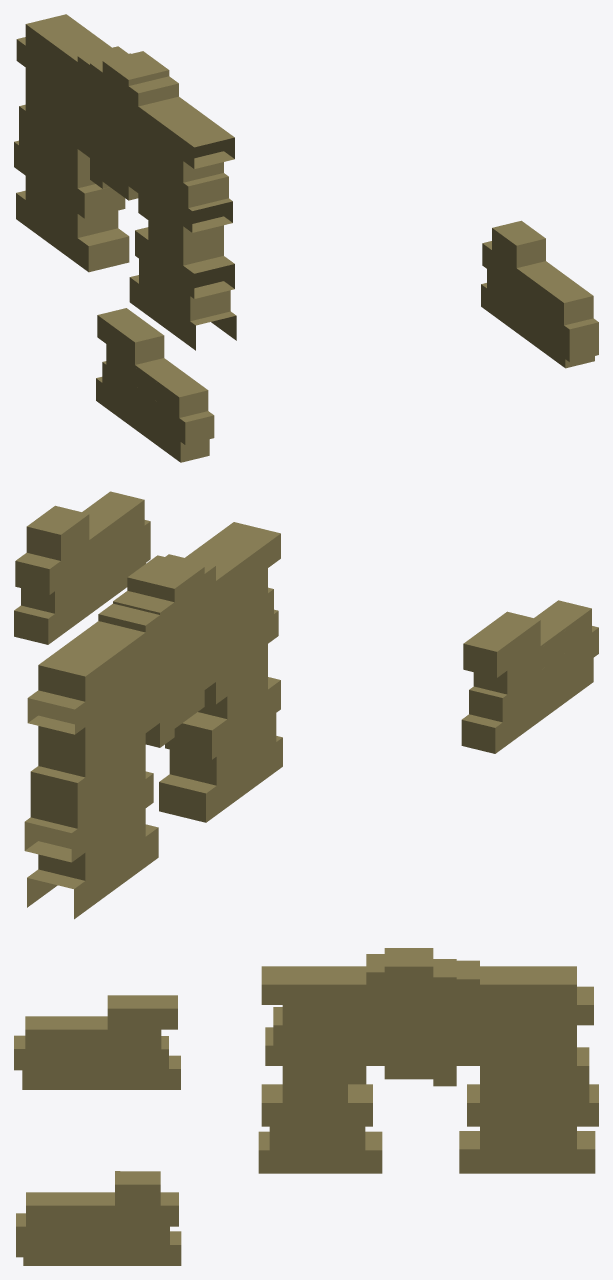
The model's file is Wall_Small_Low.fbx.
3 views of the same model, one above another, from view 1: azimuth 30°, elevation 25°; view 2: azimuth 150°, elevation 25°; view 3: azimuth 270°, elevation 25° (orthographic). The views are drawn at different scales.
Parts seen in each view (by area): view 1: Wall_Low, Brik_2_Low, Brik_1_Low; view 2: Wall_Low, Brik_2_Low, Brik_1_Low; view 3: Wall_Low, Brik_2_Low, Brik_1_Low.
Part boxes in pixels (<box>): Wall_Low: <box>14,14,236,350</box>; Brik_2_Low: <box>96,308,214,462</box>; Brik_1_Low: <box>481,220,598,368</box>; Wall_Low: <box>24,522,282,919</box>; Brik_2_Low: <box>461,600,598,753</box>; Brik_1_Low: <box>14,491,150,644</box>; Wall_Low: <box>258,948,598,1173</box>; Brik_2_Low: <box>14,995,180,1089</box>; Brik_1_Low: <box>16,1171,181,1265</box>.
Size of the model in its own units: 10.37 by 5.29 by 13.54.
